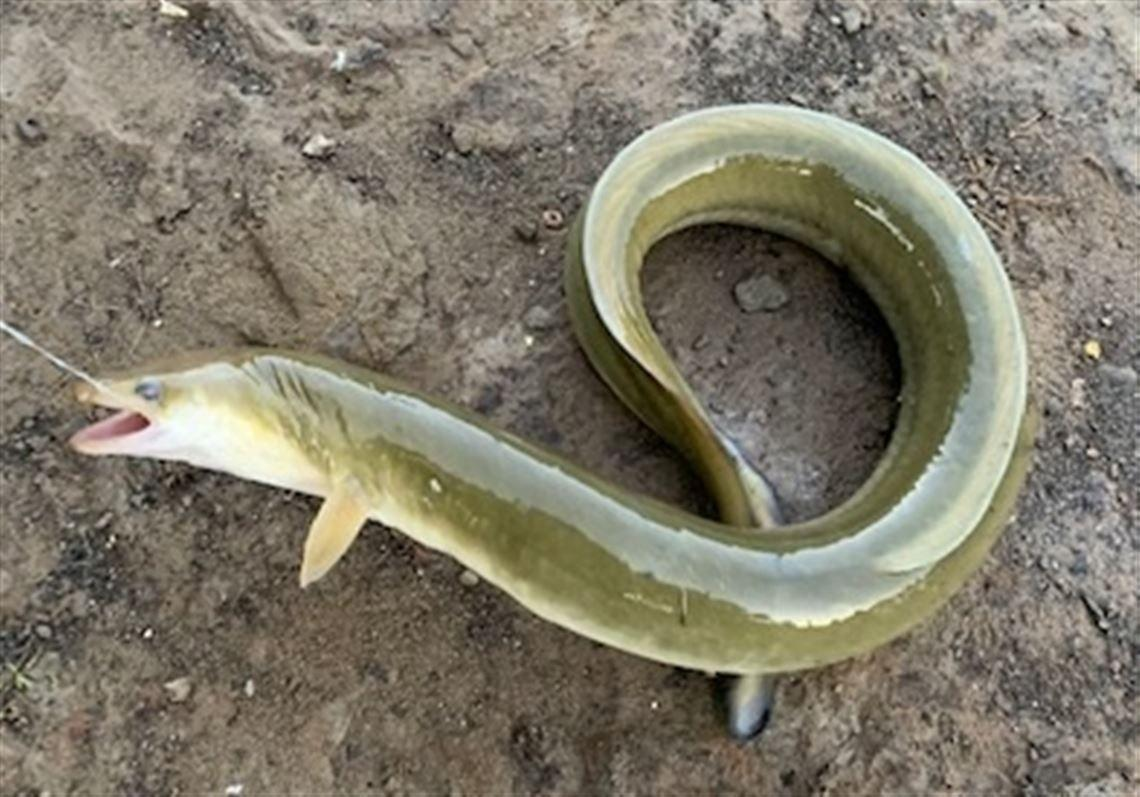Freshwater Eel: (71, 90, 1046, 750)
